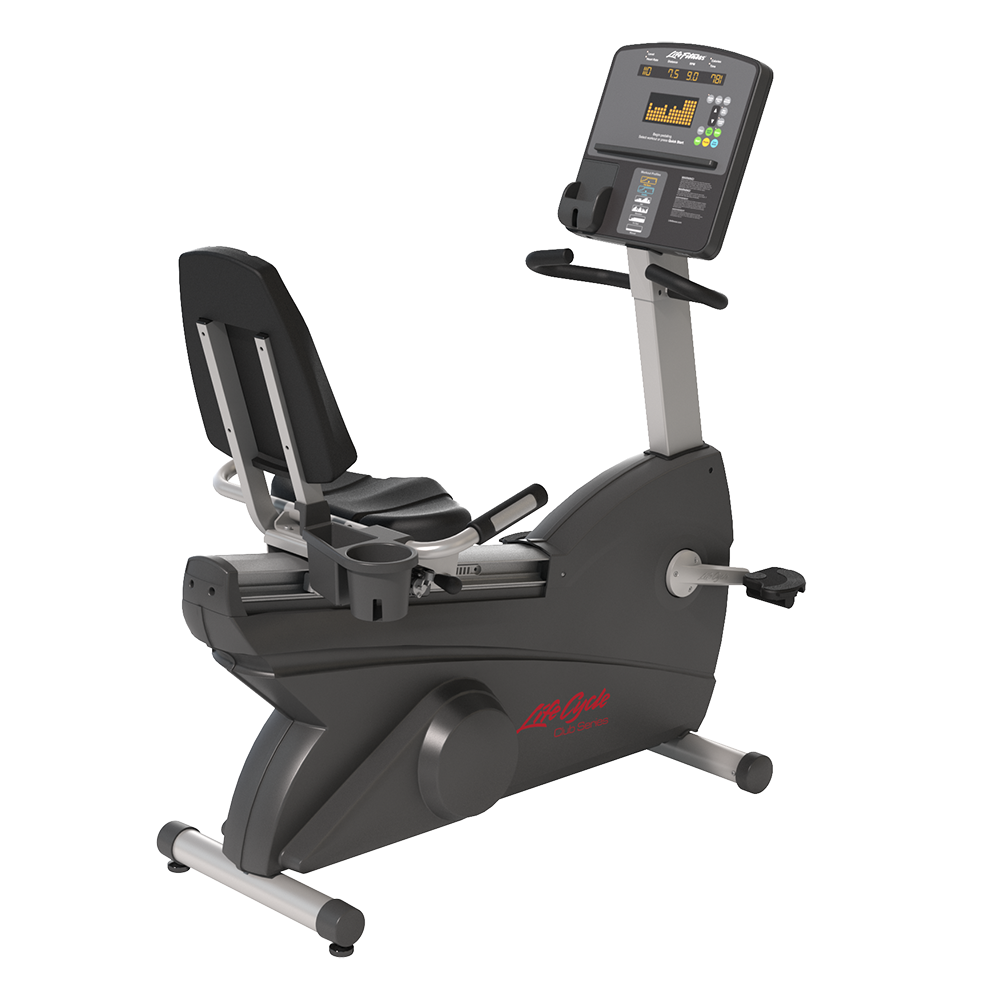gym_bike: (155, 40, 792, 946)
